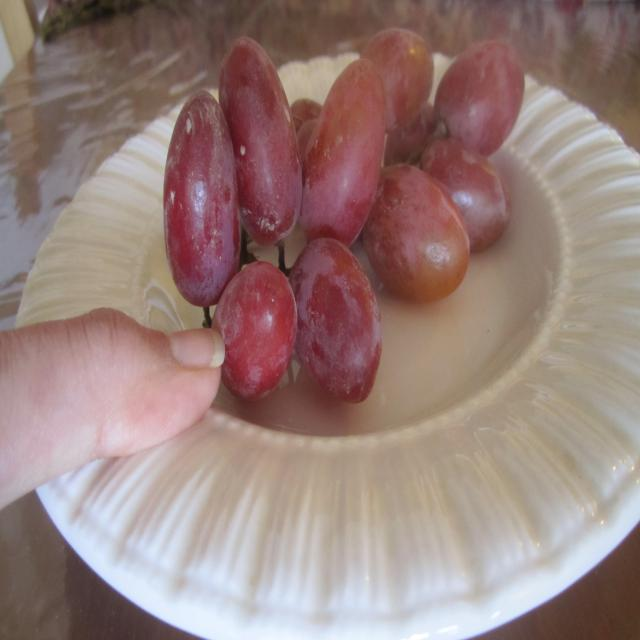grape: (164, 18, 541, 404)
